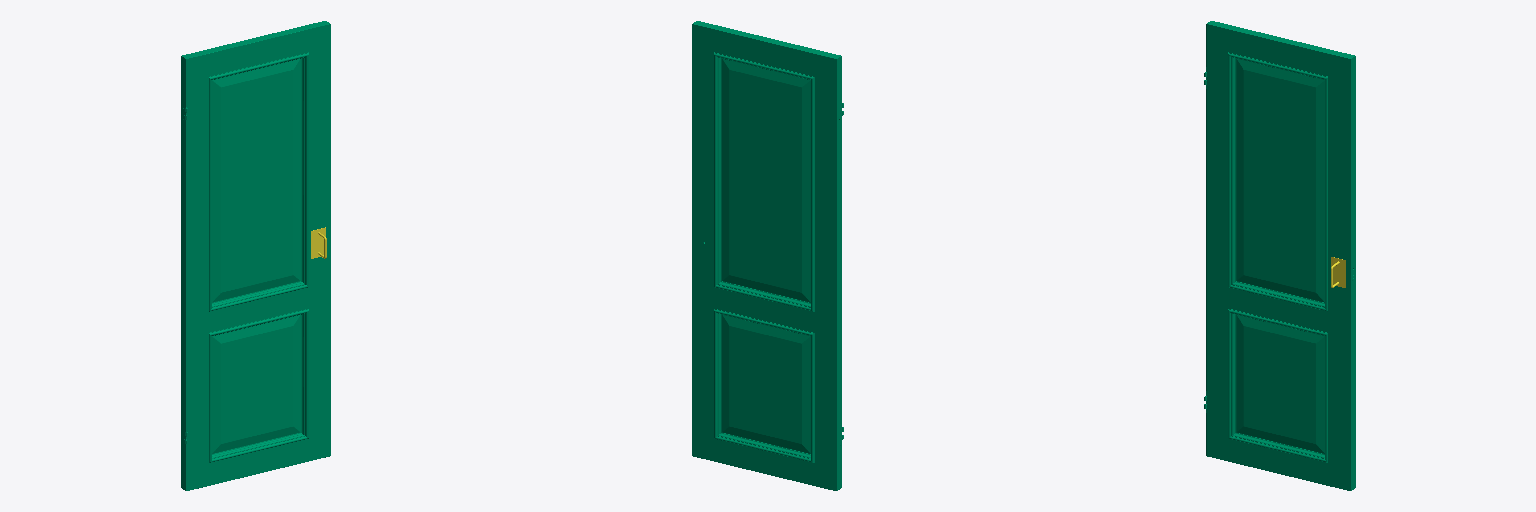
The robot description file, URDF, robot "pull_handle":
<?xml version="1.0" encoding="utf-8"?>
<robot name="pull_handle">
  <link name="world"/>
  
  <joint name="world_to_frame" type="fixed">
    <origin xyz="0 0 0.005" rpy="0 0 0"/>
    <parent link="world"/>
    <child link="frame"/>
  </joint>

  <link name="frame">
    <visual>
      <origin xyz="0 0 0" rpy="1.571 0 0"/>
      <geometry>
        <mesh filename="package://door_simulator/meshes/frame-kevin.stl"/>
      </geometry>
    </visual>

    <collision>
      <origin xyz="0 0 0" rpy="1.571 0 0"/>
      <geometry>
        <mesh filename="package://door_simulator/meshes/frame-kevin.stl"/>
      </geometry>
    </collision>

    <inertial>
      <origin xyz=".3 0 1" rpy="0 0 0"/>
      <mass value="1"/>
      <inertia ixx="1.0" ixy="0.0" ixz="0.0" iyy="1.0" iyz="0.0" izz="1.0"/>
    </inertial>
  </link>

  <joint name="hinge_joint" type="revolute">
    <origin xyz="0.07850 -0.00673 0.23370" rpy="0 0 0"/>
    <parent link="frame"/>
    <child link="door"/>
    <axis xyz="0 0 1"/>
    <limit velocity="10" effort="0" lower="-1.5" upper="0"/>
    <dynamics damping="0.7"/>
  </joint>

  <link name="door">
    <visual>
      <origin xyz="0 0 0" rpy="0 0 0"/>
      <geometry>
        <mesh filename="package://door_simulator/meshes/door.stl"/>
      </geometry>
    </visual>

    <collision>
      <origin xyz="0 0 0" rpy="0 0 0"/>
      <geometry>
        <mesh filename="package://door_simulator/meshes/door.stl"/>
      </geometry>
    </collision>

    <inertial>
      <origin xyz=".3 0 1" rpy="0 0 0"/>
      <mass value="10"/>
      <inertia ixx="1.0" ixy="0.0" ixz="0.0" iyy="1.0" iyz="0.0" izz="1.0"/>
    </inertial>
  </link>

  <joint name="handle_joint" type="fixed">
    <origin xyz="0.64207 0.00673 0.77630" rpy="0 0 0"/>
    <parent link="door"/>
    <child link="handle"/>
  </joint>

  <link name="handle">
    <visual>
      <origin xyz="0 0 0" rpy="1.57 0 0"/>
      <geometry>
        <mesh filename="package://door_simulator/meshes/pull_handle1.stl"  scale="0.00005 0.00005 0.00005"/>
      </geometry>
    </visual>

    <collision>
      <origin xyz="0 0 0" rpy="1.57 0 0"/>
      <geometry>
        <mesh filename="package://door_simulator/meshes/pull_handle1.stl"  scale="0.00005 0.00005 0.00005"/>
      </geometry>
    </collision>

    <inertial>
      <origin xyz="0 0 0" rpy="1.57 0 0"/>
      <mass value=".5"/>
      <inertia ixx="1.0" ixy="0.0" ixz="0.0" iyy="1.0" iyz="0.0" izz="1.0"/>
    </inertial>
  </link>

  <gazebo reference="door">
    <mu1>0.2</mu1>
    <mu2>0.2</mu2>
    <material>Gazebo/Green</material>
    <selfCollide>True</selfCollide>
  </gazebo>

  <gazebo reference="frame">
    <mu1>0.2</mu1>
    <mu2>0.2</mu2>
    <material>Gazebo/Blue</material>
    <selfCollide>True</selfCollide>
  </gazebo>
    
  <gazebo reference="hinge_joint">
      <implicitSpringDamper>True</implicitSpringDamper>
      <springStiffness>2</springStiffness>
      <springReference>2</springReference>
      <cfmDamping>2</cfmDamping>
  </gazebo>  

  <gazebo>
    <plugin name="gazebo_ros_control" filename="libgazebo_ros_control.so">
      <robotNamespace>/door_simulator</robotNamespace>
      <robotSimType>gazebo_ros_control/DefaultRobotHWSim</robotSimType>
    </plugin>
  </gazebo>

  <transmission name="tran1">
    <type>transmission_interface/SimpleTransmission</type>
    <joint name="hinge_joint">
      <hardwareInterface>hardware_interface/PositionJointInterface</hardwareInterface>
    </joint>
    <actuator name="motor1">
      <hardwareInterface>hardware_interface/PositionJointInterface</hardwareInterface>
      <mechanicalReduction>1</mechanicalReduction>
    </actuator>
  </transmission>

</robot>

--- Facts derived from the render (not from the file) ---
Views: 3 orthographic renders of the robot side by side, from view 1: azimuth 30°, elevation 25°; view 2: azimuth 150°, elevation 25°; view 3: azimuth 330°, elevation 25°.
Model pull_handle with 4 links and 3 joints (1 revolute, 2 fixed), rooted at world, posed all joints at 0.
Visible links, largest first — view 1: door; view 2: door; view 3: door.
Link boxes in pixels (x1,y1,x2,y2): door: (181,21,330,490); door: (692,21,843,490); door: (1204,21,1355,490).
Bounding box of the posed robot: 0.706 × 0.1123 × 2 m (x, y, z).
Meshes: 3 distinct files referenced, 2 mesh visuals loaded (2 binary STL); not drawn: 1 (reference not matched to a file when rendering).
